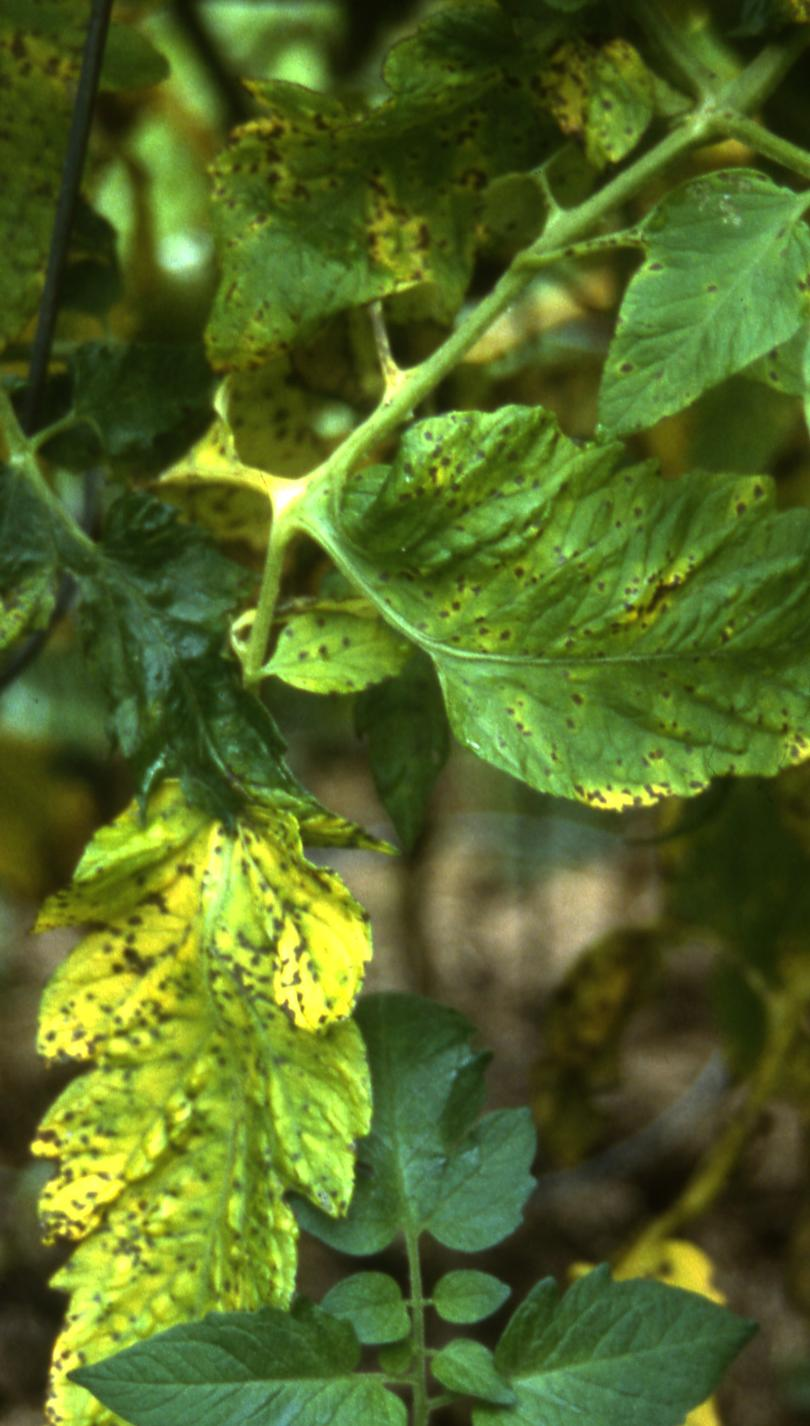Tomato Septoria leaf spot: (24, 678, 389, 1426), (256, 363, 810, 845), (552, 111, 810, 462)
